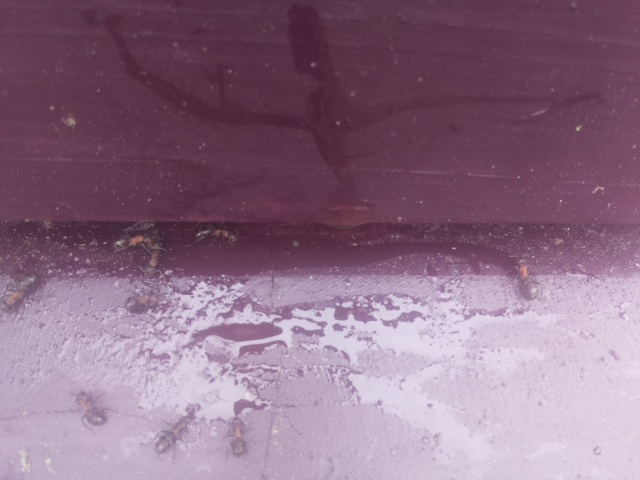ant: (147, 397, 209, 459), (71, 383, 111, 433), (0, 268, 45, 312), (514, 251, 546, 308), (139, 233, 168, 284), (226, 411, 252, 460), (190, 222, 241, 246)
